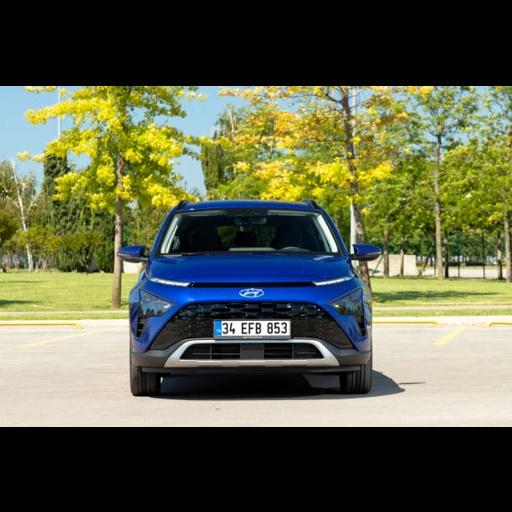suv: (118, 201, 380, 393)
